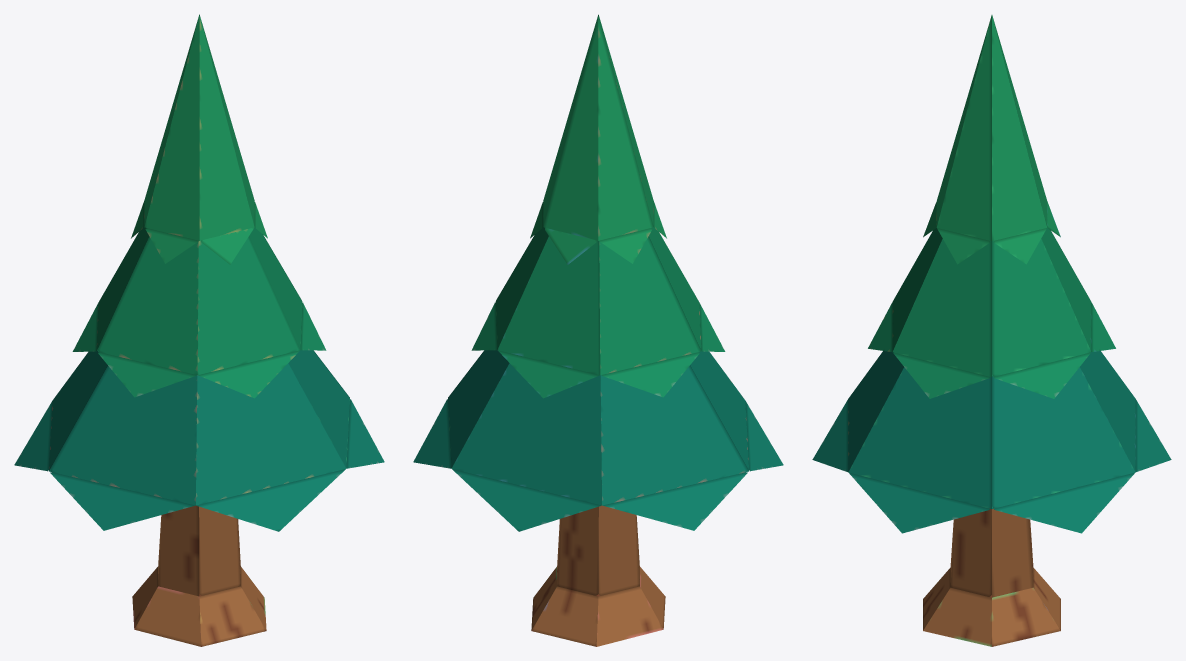
Rendered from PineTree.fbx.
3 views of the same model, side by side, from view 1: azimuth 30°, elevation 25°; view 2: azimuth 150°, elevation 25°; view 3: azimuth 270°, elevation 25° (orthographic).
Visible parts, largest first — view 1: BotLayer, MidLater, TopLayer, Trunk; view 2: BotLayer, MidLater, TopLayer, Trunk; view 3: BotLayer, MidLater, TopLayer, Trunk.
Boxes of the visible parts, x1=… form: BotLayer: x1=14, y1=350, x2=384, y2=531; MidLater: x1=72, y1=227, x2=326, y2=398; TopLayer: x1=131, y1=14, x2=267, y2=264; Trunk: x1=132, y1=505, x2=266, y2=646; BotLayer: x1=413, y1=350, x2=783, y2=531; MidLater: x1=471, y1=227, x2=725, y2=398; TopLayer: x1=530, y1=14, x2=666, y2=264; Trunk: x1=531, y1=505, x2=665, y2=646; BotLayer: x1=812, y1=351, x2=1171, y2=533; MidLater: x1=868, y1=227, x2=1115, y2=398; TopLayer: x1=923, y1=15, x2=1060, y2=264; Trunk: x1=923, y1=508, x2=1060, y2=646.
Size of the model in its own units: 158 by 300 by 162.
1 material, 1 textured.
